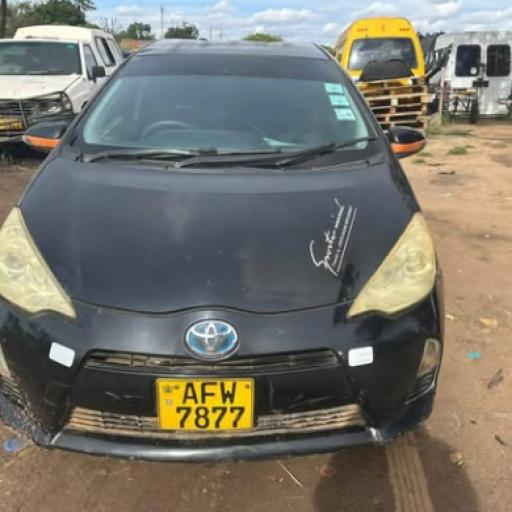number-plates: (157, 372, 252, 430)
